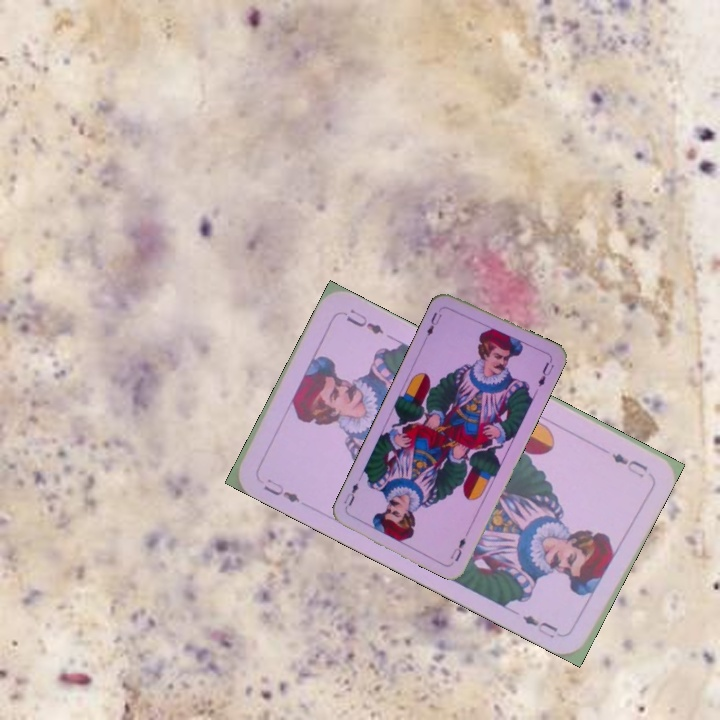EU: (259, 474, 303, 506), (607, 449, 651, 481), (422, 308, 444, 339), (446, 533, 468, 564)
